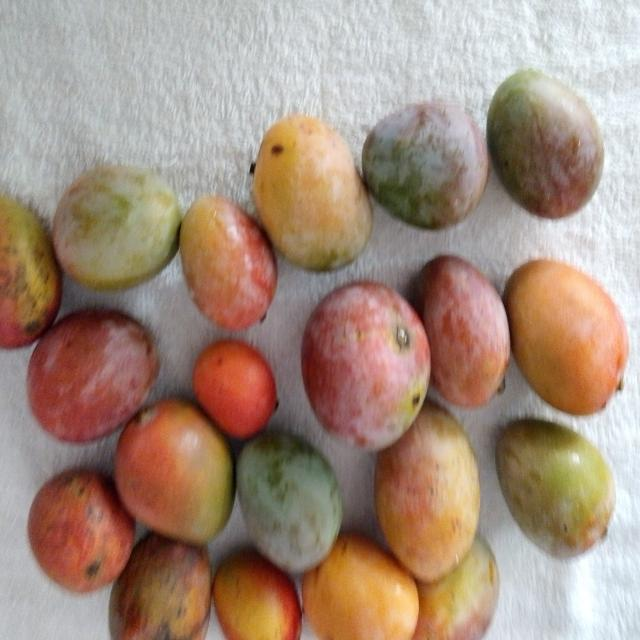mango: (301, 278, 432, 452), (248, 110, 377, 278), (377, 397, 482, 581), (111, 401, 238, 546), (495, 413, 617, 563), (490, 68, 606, 219), (363, 98, 493, 232), (235, 427, 344, 575), (417, 257, 515, 410), (179, 199, 281, 333), (25, 470, 133, 592), (107, 532, 214, 640), (0, 188, 62, 346)
